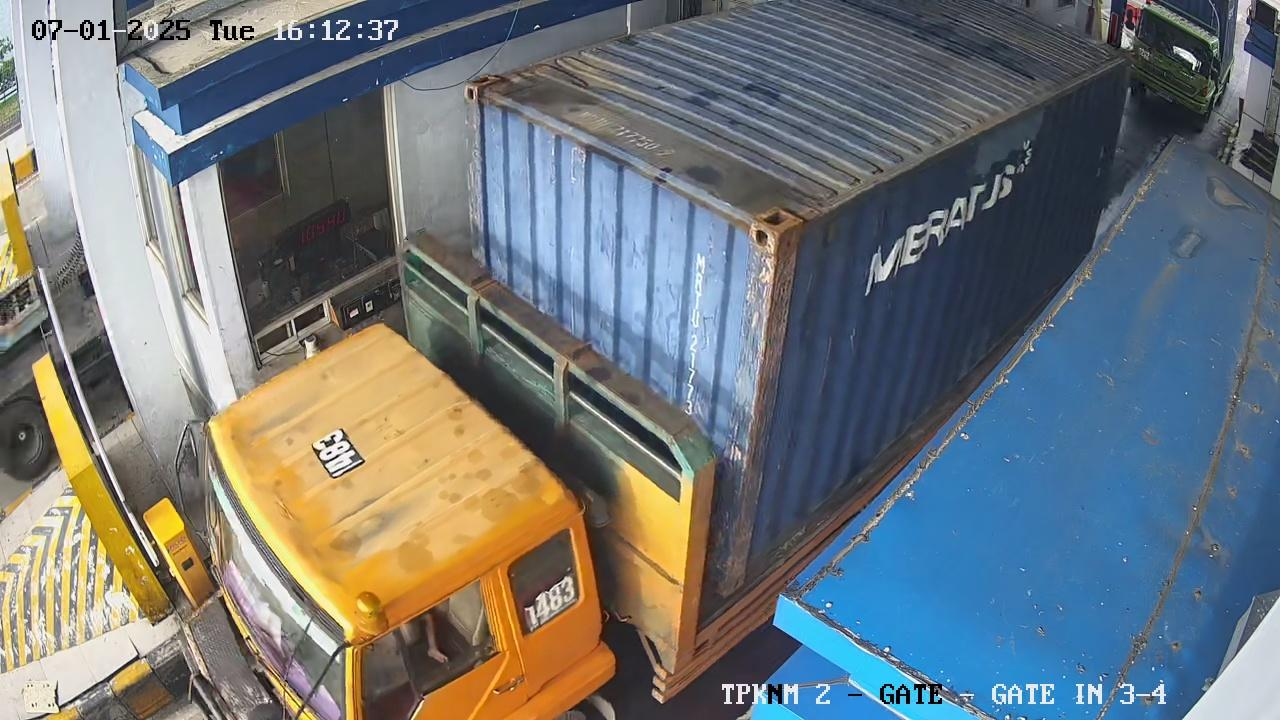Container_ID_Vertikal: (680, 245, 712, 414)
